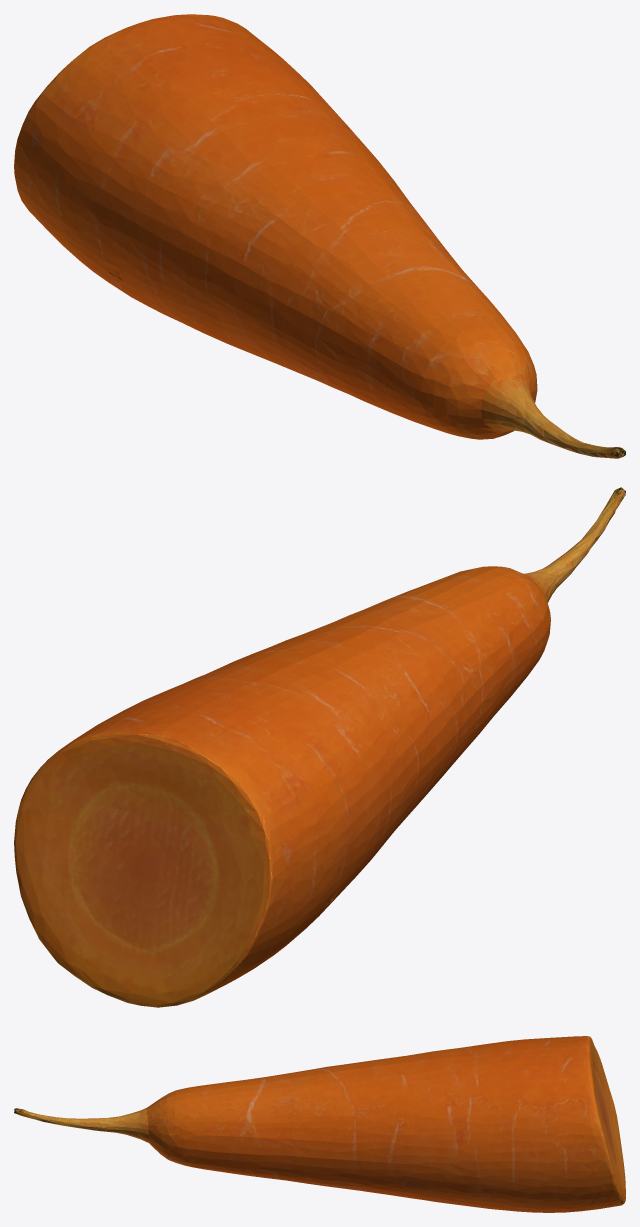
File: zanahoria.glb
3 renders of one model, top to bottom at view 1: azimuth 30°, elevation 25°; view 2: azimuth 150°, elevation 25°; view 3: azimuth 270°, elevation 25°, orthographic. The views are drawn at different scales.
Visible parts, largest first — view 1: geometry_0; view 2: geometry_0; view 3: geometry_0.
Part boxes in pixels (bbox=[...]): geometry_0: bbox=[14, 14, 625, 458]; geometry_0: bbox=[14, 487, 625, 1007]; geometry_0: bbox=[14, 1036, 625, 1212].
Bounding box in the file's own units: 0.2997 × 0.2833 × 1.
1 material, 1 textured.
